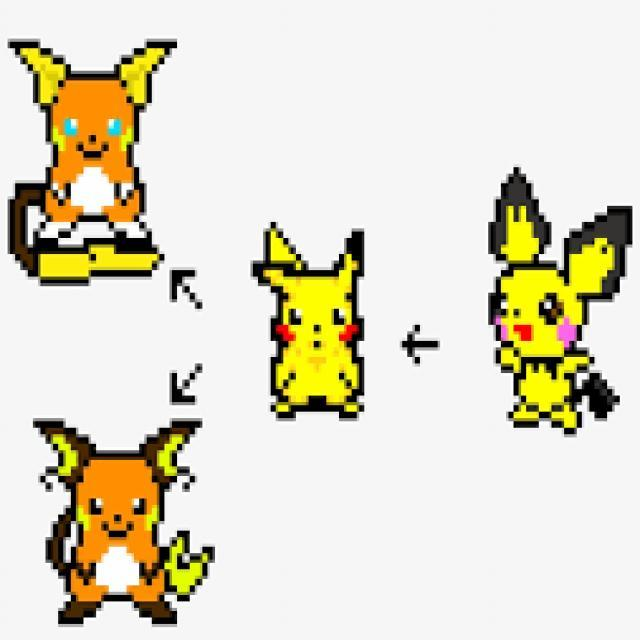pichu: (457, 180, 640, 444)
